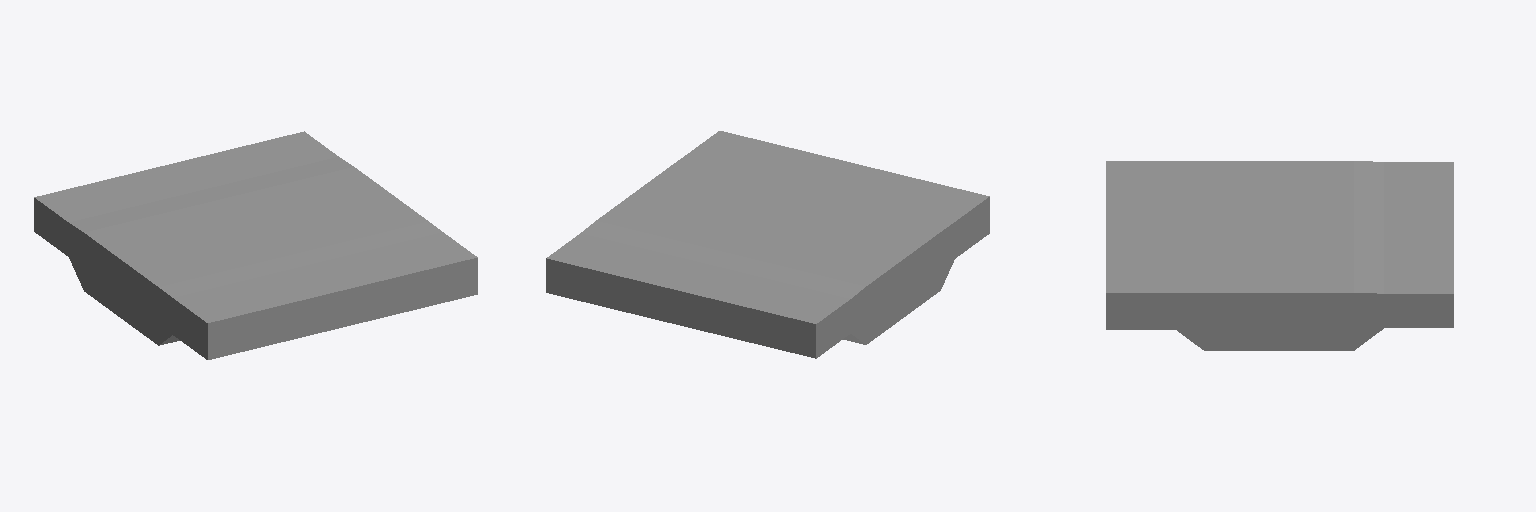
The model's file is bridgebase.obj.
3 renders of one model, left to right at view 1: azimuth 30°, elevation 25°; view 2: azimuth 150°, elevation 25°; view 3: azimuth 270°, elevation 25°, orthographic.
Parts seen in each view (by area): view 1: Cube.003; view 2: Cube.003; view 3: Cube.003.
Boxes of the visible parts, x1,y1,x2,y2 form: Cube.003: [34, 131, 477, 359]; Cube.003: [546, 131, 989, 358]; Cube.003: [1106, 161, 1453, 350].
Bounding box in the file's own units: 2.33 × 0.4837 × 2.59.